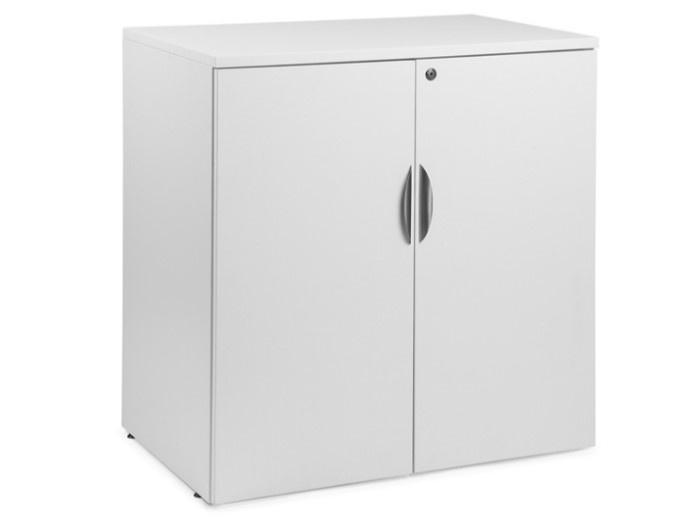cabinet_door: (215, 67, 412, 486), (413, 54, 596, 469)
handle: (392, 163, 418, 246), (413, 160, 435, 242)
